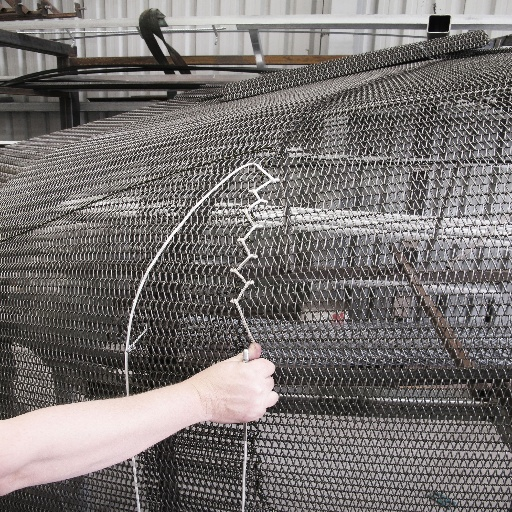hand: (0, 354, 291, 486)
